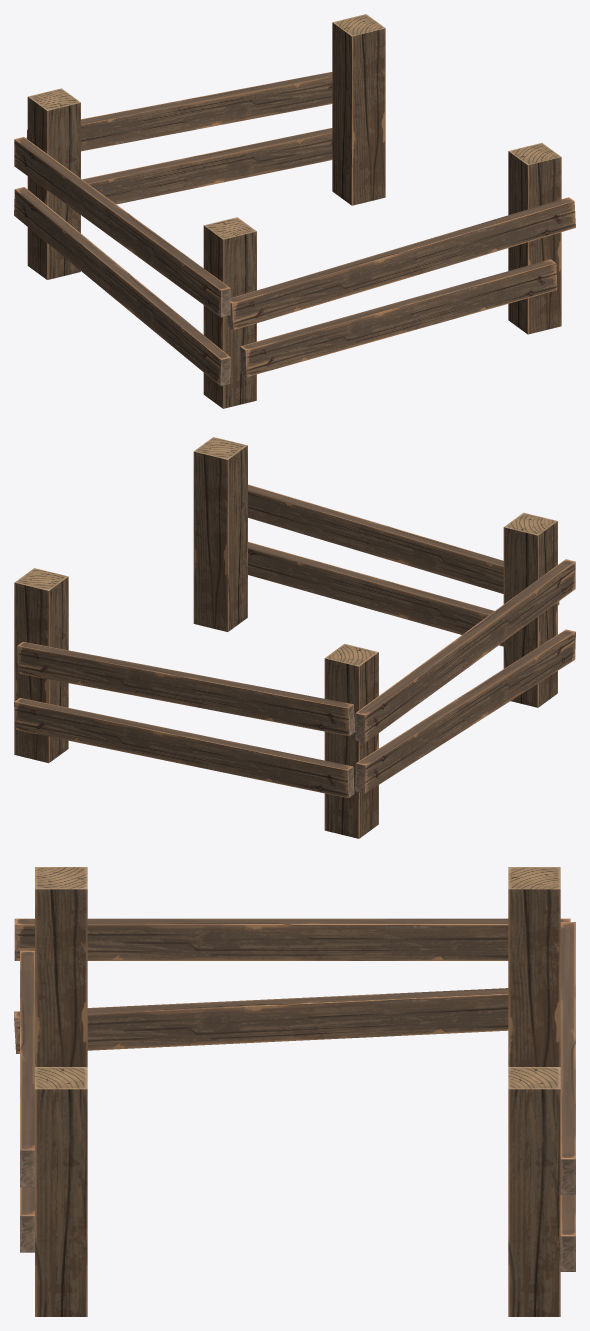
File: tower_middle_A.fbx
The picture shows the model from 3 angles, top to bottom: view 1: azimuth 30°, elevation 25°; view 2: azimuth 150°, elevation 25°; view 3: azimuth 270°, elevation 25°; orthographic projection. The views are drawn at different scales.
Visible parts, largest first — view 1: tower_middle_A; view 2: tower_middle_A; view 3: tower_middle_A.
Boxes of the visible parts, <box> form: tower_middle_A: <box>14,14,575,408</box>; tower_middle_A: <box>14,437,575,838</box>; tower_middle_A: <box>14,867,575,1316</box>.
Bounding box in the file's own units: 316 × 143 × 321.
